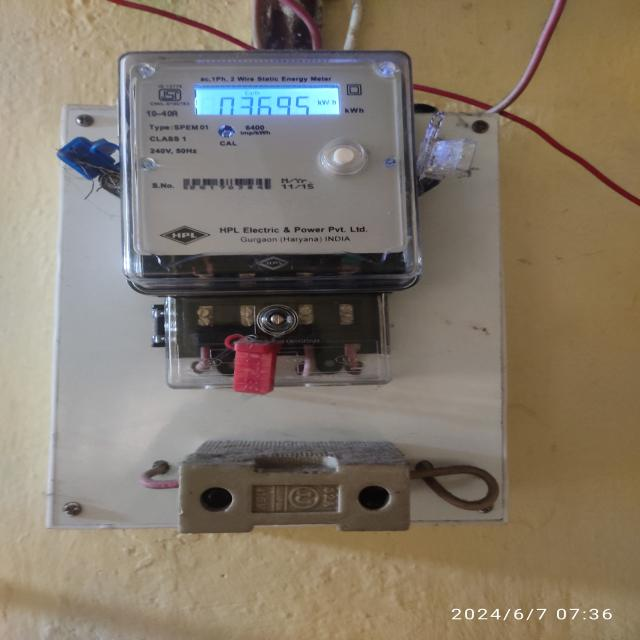display: (192, 78, 348, 122)
